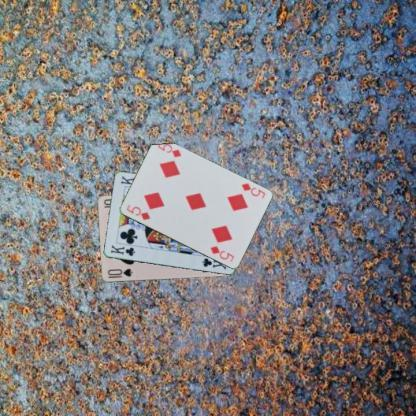10s: (105, 265, 134, 280)
5d: (124, 202, 152, 222), (239, 180, 266, 199)
Kc: (108, 242, 136, 258)
